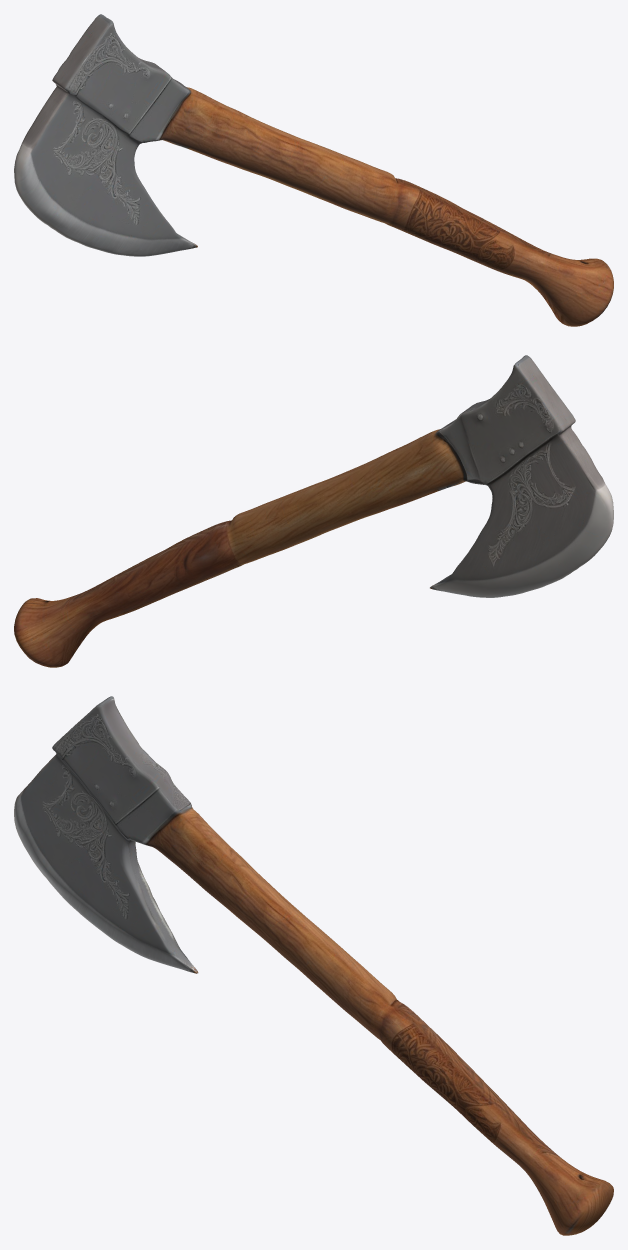
Rendered from axe.glb.
The picture shows the model from 3 angles, top to bottom: view 1: azimuth 30°, elevation 25°; view 2: azimuth 150°, elevation 25°; view 3: azimuth 330°, elevation 25°; orthographic projection.
Parts seen in each view (by area): view 1: Object_4; view 2: Object_4; view 3: Object_4.
Boxes of the visible parts, bbox=[...] form: Object_4: bbox=[14, 14, 613, 326]; Object_4: bbox=[14, 355, 613, 667]; Object_4: bbox=[14, 696, 613, 1235].
Bounding box in the file's own units: 1.99 × 1.35 × 0.2017.
Materials: 1 (1 with a texture image).
